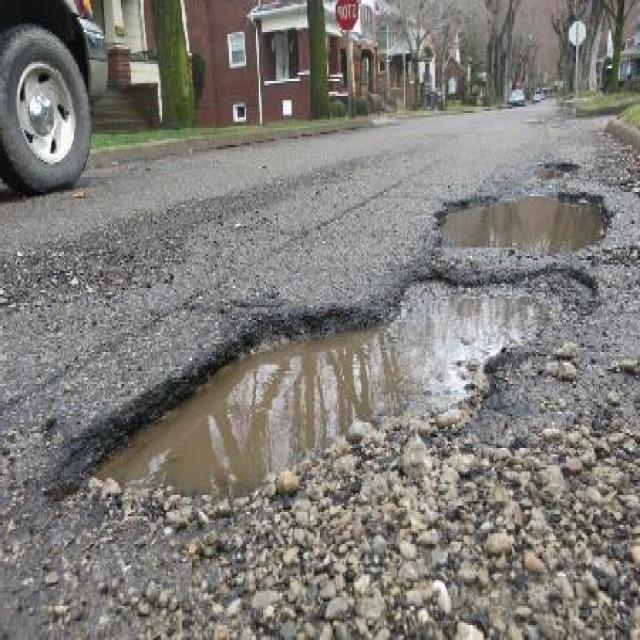pothole: (35, 195, 628, 564), (54, 265, 603, 521), (434, 186, 618, 256), (432, 187, 613, 257), (539, 154, 583, 180), (541, 159, 577, 180)
